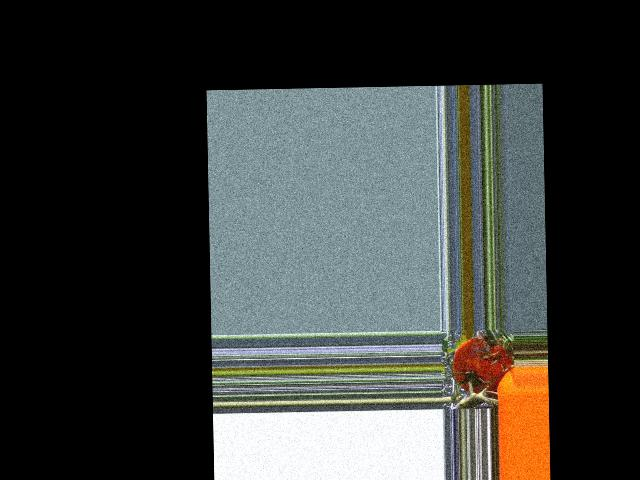tomato: (452, 335, 513, 394)
